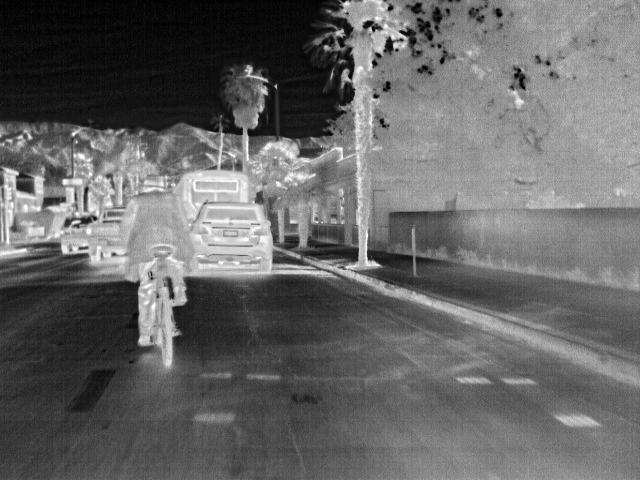car: (193, 200, 272, 272), (8, 209, 60, 254), (90, 207, 125, 265), (60, 218, 89, 253)
person: (132, 173, 186, 343)
